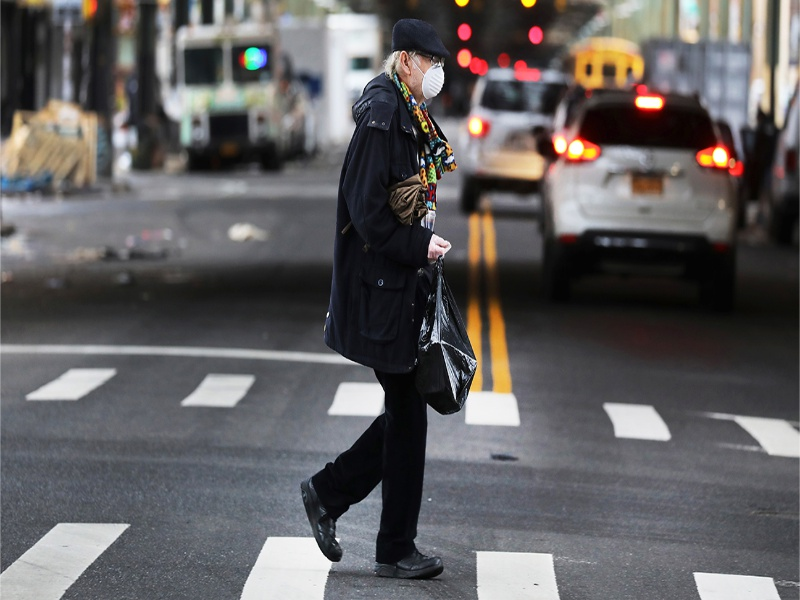ManaoArotava: (384, 13, 452, 116)
